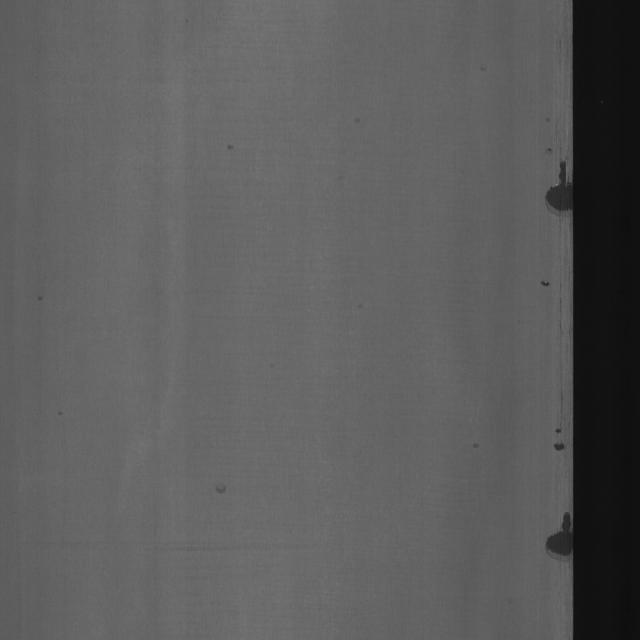welding_line: (535, 131, 573, 232), (543, 486, 575, 588)
